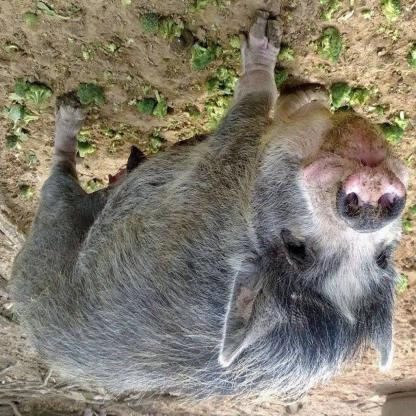boar: (1, 9, 407, 416)
